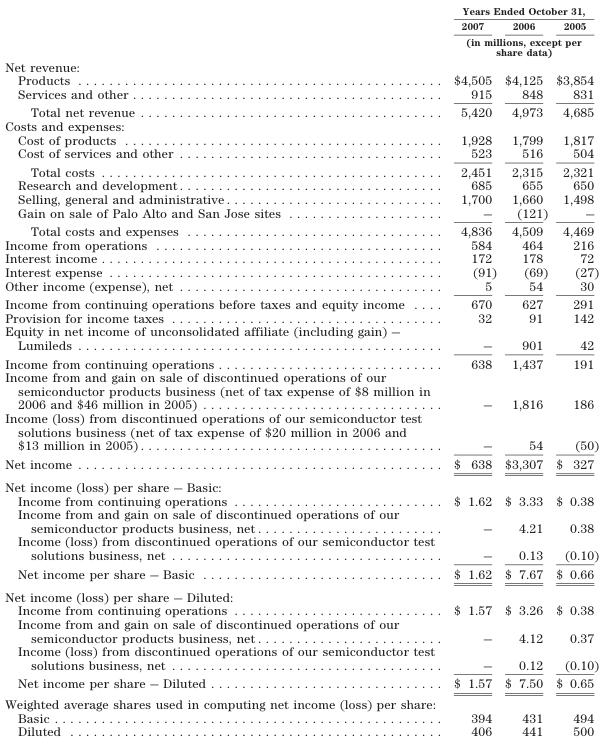table: (4, 4, 598, 738)
table column: (4, 4, 443, 738), (443, 4, 500, 738), (500, 4, 551, 738), (551, 4, 598, 738)
table column header: (4, 4, 598, 58)
table projected row header: (4, 584, 598, 603), (4, 475, 598, 493), (4, 693, 598, 710), (4, 58, 598, 72), (4, 118, 598, 132)
table row: (4, 410, 598, 454), (4, 370, 598, 410), (4, 324, 598, 353), (4, 534, 598, 563), (4, 644, 598, 673), (4, 616, 598, 644), (4, 507, 598, 534), (4, 33, 598, 58), (4, 454, 598, 475), (4, 563, 598, 584), (4, 673, 598, 693), (4, 584, 598, 603), (4, 475, 598, 493), (4, 145, 598, 162), (4, 353, 598, 370), (4, 693, 598, 710), (4, 17, 598, 33), (4, 86, 598, 102), (4, 102, 598, 118), (4, 162, 598, 178), (4, 205, 598, 221), (4, 221, 598, 237), (4, 278, 598, 294), (4, 294, 598, 310), (4, 58, 598, 72), (4, 72, 598, 86), (4, 118, 598, 132), (4, 191, 598, 205), (4, 237, 598, 251), (4, 264, 598, 278), (4, 310, 598, 324), (4, 493, 598, 507), (4, 710, 598, 724), (4, 724, 598, 738), (4, 4, 598, 17), (4, 132, 598, 145), (4, 178, 598, 191), (4, 251, 598, 264), (4, 603, 598, 616)
table spanning cell: (443, 33, 598, 58), (443, 4, 598, 17)
